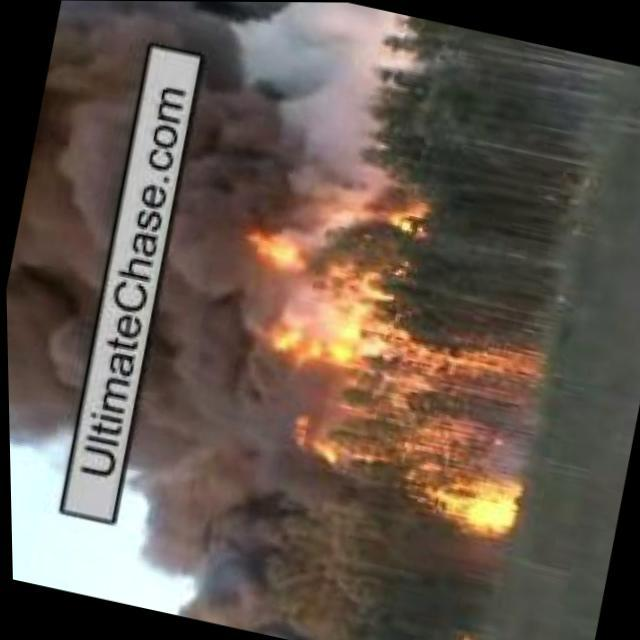fire: (231, 294, 549, 542), (220, 142, 432, 294), (440, 628, 484, 640)
